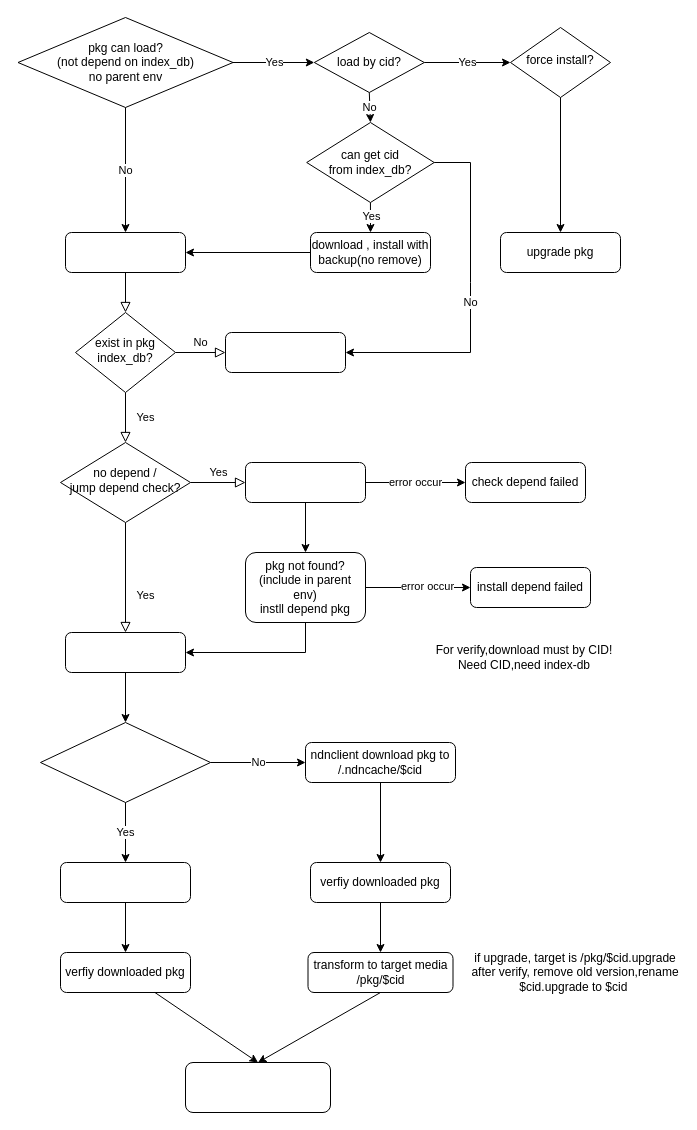
This 697x1130 diagram has some shape labels left out. Here are the shapes that lost their labels. From the top down, the centre of each, then its label:
(125,252): download and install/upgrade pkg
(285,352): failed
(305,482): check dpend pkg in index_db
(125,652): Start Install
(125,762): target pkg_media == source pkg_media?
(125,882): ndnclient download pkg to /pkg/$cid
(257,1087): Save state pkg, create version soft link /pkg/$version => /pkg$cid
